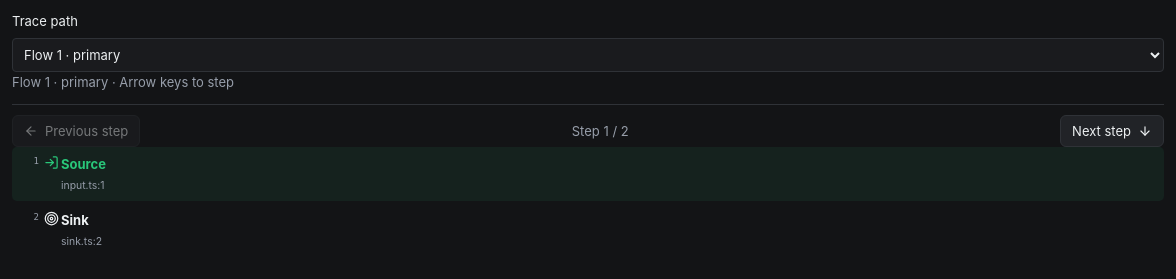
it: trace debugger › links cross-file steps, previous/next, and keyboard navigation
Expected: the text "Step 1 / 2" is shown, top-left (572, 122), bottom-right (629, 141)
Expected: the button "Previous step" is disabled, top-left (12, 115), bottom-right (140, 147)
Step 1. Click the button "Next step" → point(1112, 131), box top-left (1060, 115), bottom-right (1164, 147)
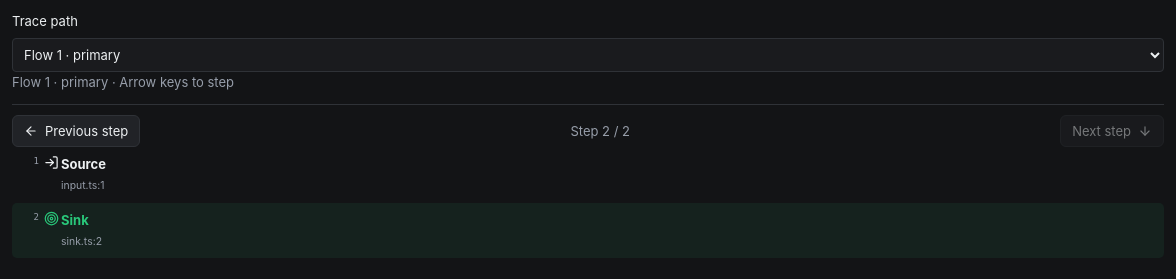
Expected: the text "Step 2 / 2" is shown, top-left (570, 122), bottom-right (630, 141)
Step 2. Click the button "Previous step" → point(76, 131), box top-left (12, 115), bottom-right (140, 147)
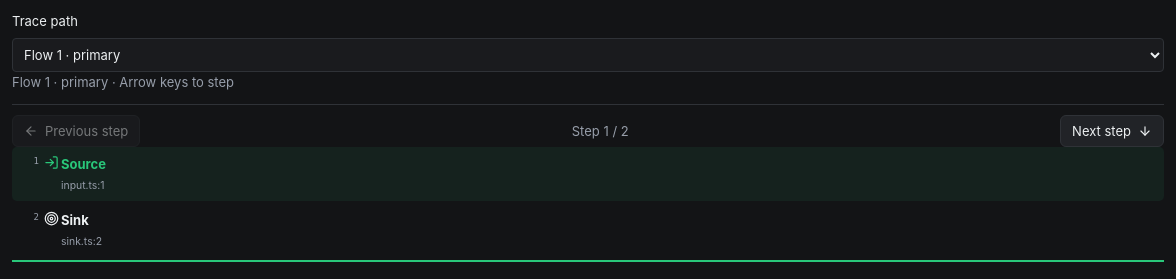
Step 3. Press Arrowright
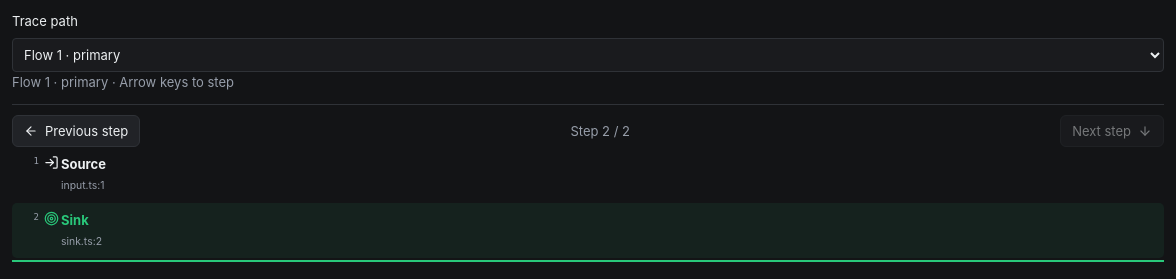
Expected: the button "Next step" is disabled, top-left (1060, 115), bottom-right (1164, 147)
